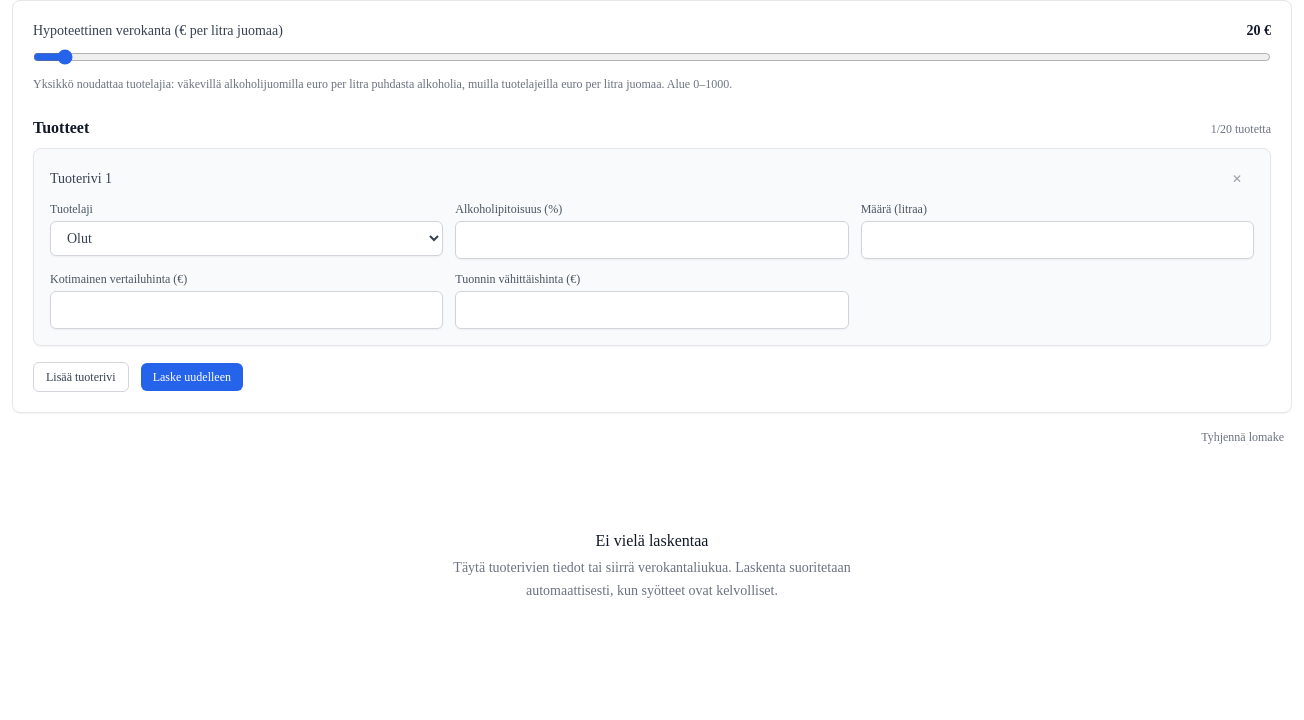
it: WhatIfView form pass (task 4.7) › shows a specific inline validation message for a bad ABV value
Type "150" into the field labelled "Alkoholipitoisuus (%)" at (652, 240), box [455, 221, 849, 259]
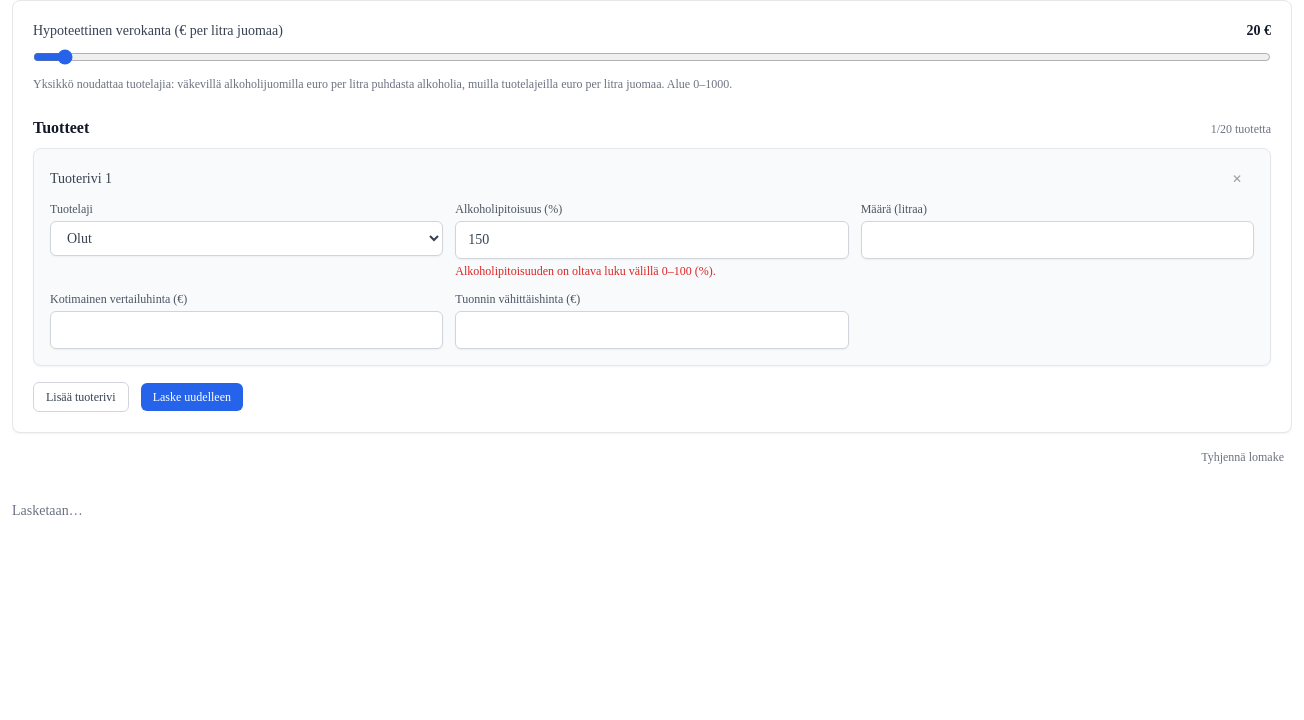
Expected: the text "Alkoholipitoisuuden on oltava luku välillä 0–100 (%)." is shown, [455, 264, 716, 278]
